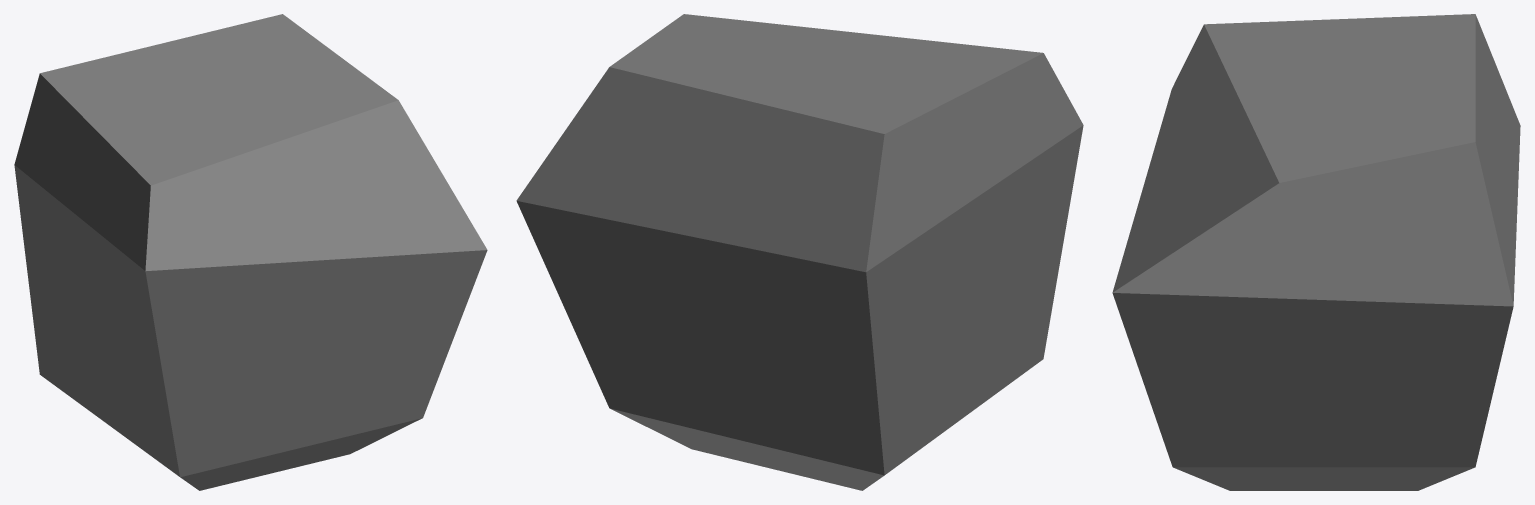
Rendered from Stone.obj.
The picture shows the model from 3 angles, left to right: view 1: azimuth 30°, elevation 25°; view 2: azimuth 150°, elevation 25°; view 3: azimuth 270°, elevation 25°; orthographic projection. The views are drawn at different scales.
Parts seen in each view (by area): view 1: Cube_Cube.001; view 2: Cube_Cube.001; view 3: Cube_Cube.001.
Part boxes in pixels (box(x1,y1,x2,y2)): Cube_Cube.001: box(14, 14, 487, 490); Cube_Cube.001: box(516, 14, 1083, 490); Cube_Cube.001: box(1112, 14, 1520, 490).
Size of the model in its own units: 2.82 by 2.72 by 2.69.
1 material, 1 textured.
